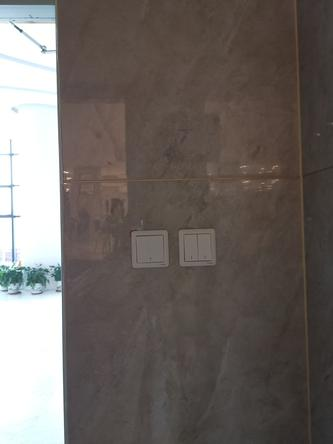switch: (130, 231, 168, 264), (194, 231, 215, 264), (180, 231, 200, 262)
